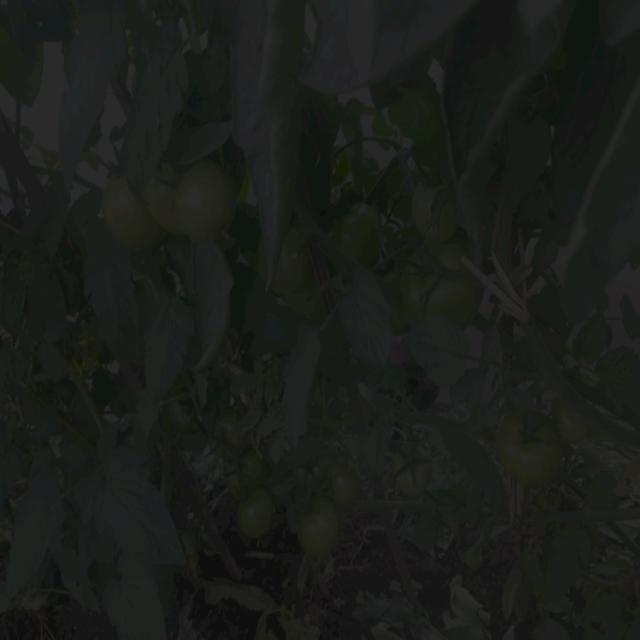tomato: (102, 169, 166, 261), (402, 243, 474, 324), (178, 163, 239, 253), (496, 414, 572, 484), (338, 199, 390, 268), (394, 444, 444, 504), (414, 182, 459, 241), (146, 162, 183, 233), (298, 507, 341, 566), (325, 464, 373, 509), (234, 488, 277, 533), (281, 243, 311, 294), (172, 388, 204, 434), (212, 417, 244, 459), (242, 450, 270, 481)
